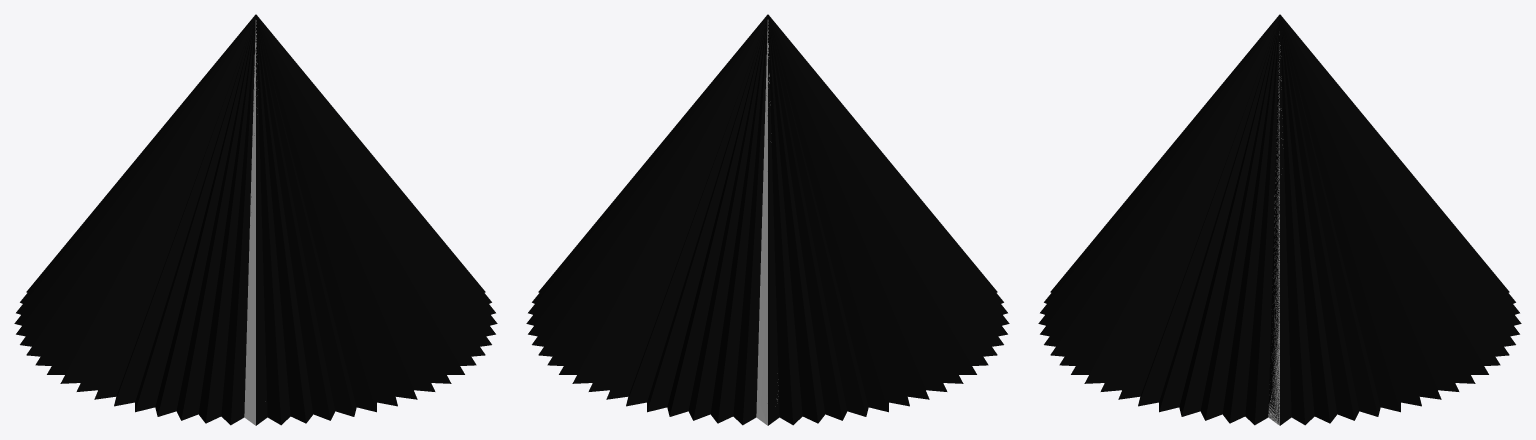
The model's file is Tetrahedron5_Create60FPS2.fbx.
The picture shows the model from 3 angles, left to right: view 1: azimuth 30°, elevation 25°; view 2: azimuth 150°, elevation 25°; view 3: azimuth 270°, elevation 25°; orthographic projection.
Parts seen in each view (by area): view 1: BaseSolid; view 2: BaseSolid; view 3: BaseSolid.
Boxes of the visible parts, x1=… form: BaseSolid: x1=14, y1=14, x2=497, y2=425; BaseSolid: x1=526, y1=14, x2=1009, y2=425; BaseSolid: x1=1038, y1=14, x2=1521, y2=425.
Bounding box in the file's own units: 1.32 × 0.9333 × 1.32.
Materials: 1 (1 with a texture image).
